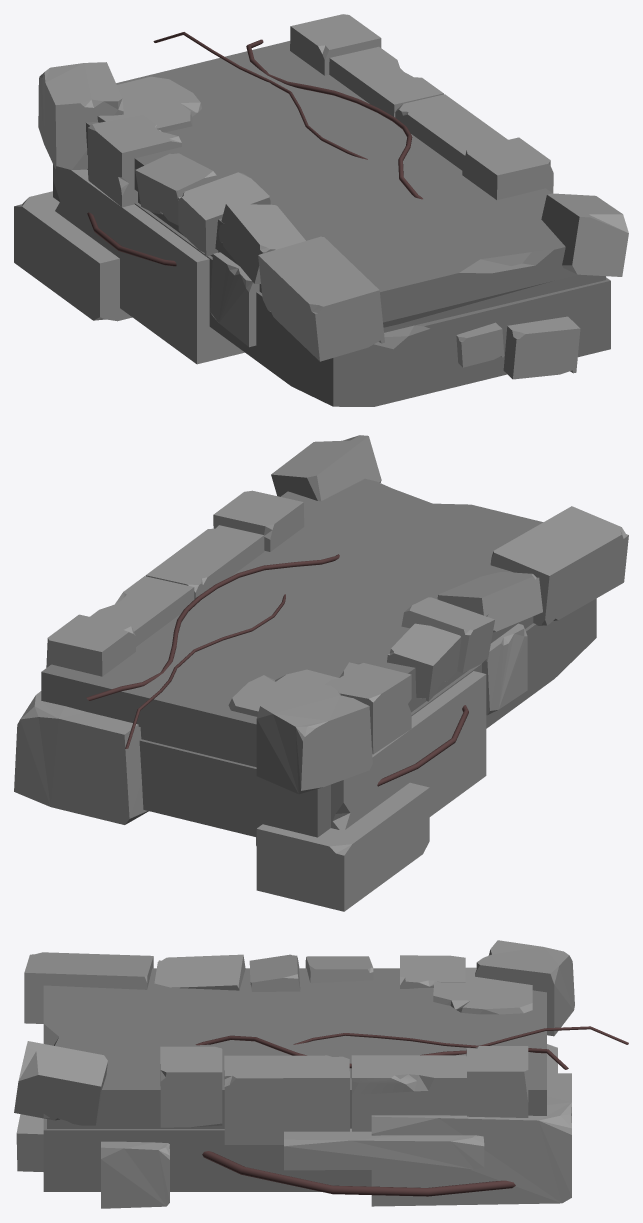
The model's file is SM_Bridge_Palace.fbx.
3 renders of one model, top to bottom at view 1: azimuth 30°, elevation 25°; view 2: azimuth 150°, elevation 25°; view 3: azimuth 270°, elevation 25°, orthographic. The views are drawn at different scales.
Visible parts, largest first — view 1: SM_Bridge_Palace; view 2: SM_Bridge_Palace; view 3: SM_Bridge_Palace.
Part boxes in pixels (x1,y1,x2,y2): SM_Bridge_Palace: [14, 14, 628, 406]; SM_Bridge_Palace: [14, 435, 628, 911]; SM_Bridge_Palace: [14, 940, 628, 1208].
Size of what is drawn, in the model's own units: 526 by 262 by 831.
